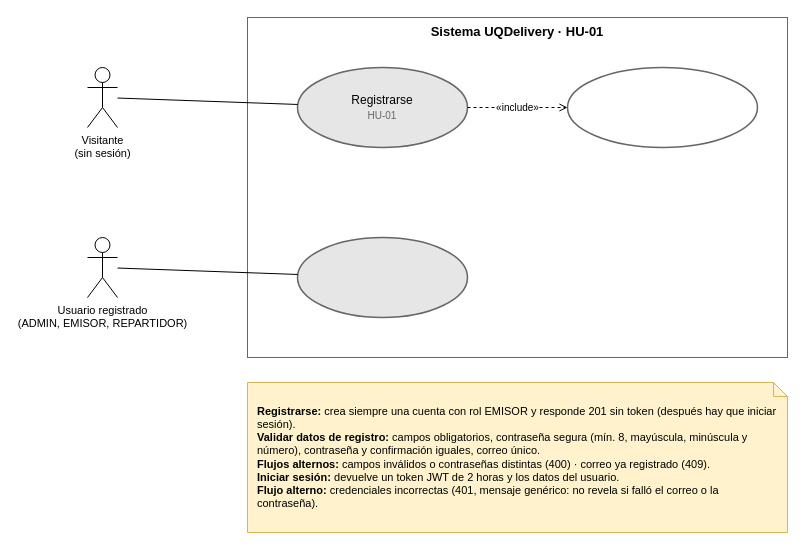
Image size: 805x550. Some labels were removed from this diagram. Each missing label, with the box of its shape:
Iniciar sesión HU-01: (296, 236, 468, 318)
Validar datos de registro: (566, 66, 758, 148)
